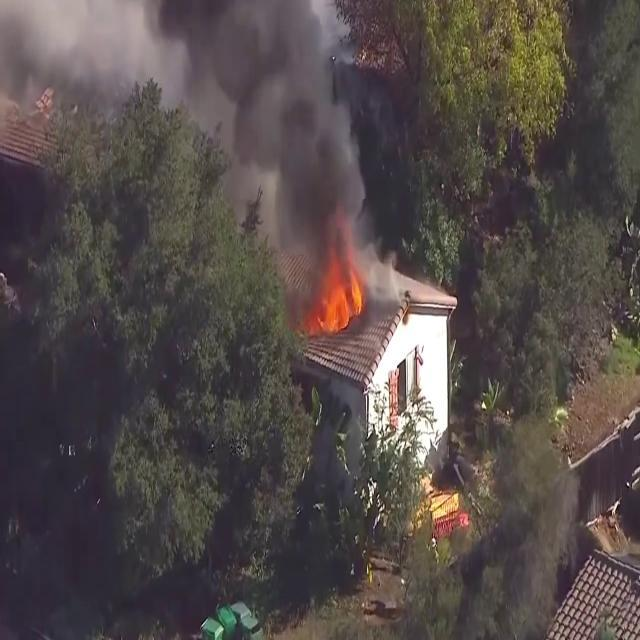Fire: (314, 262, 366, 334)
Smoke: (166, 0, 376, 293)
